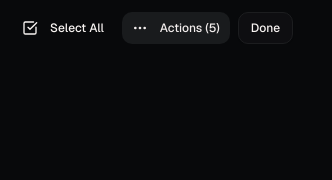
SelectionToolbar › shows dropdown options when Actions button is clicked
Click the button "Actions (5)": (176,28) [122,12,230,44]
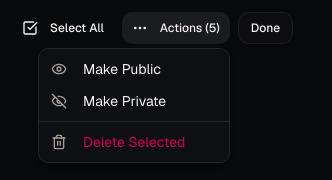
Now the menu item "Make Public" is shown, box [51,60,161,78]
Now the menu item "Make Private" is shown, box [51,92,166,110]
Now the menu item "Delete Selected" is shown, box [51,133,185,151]
